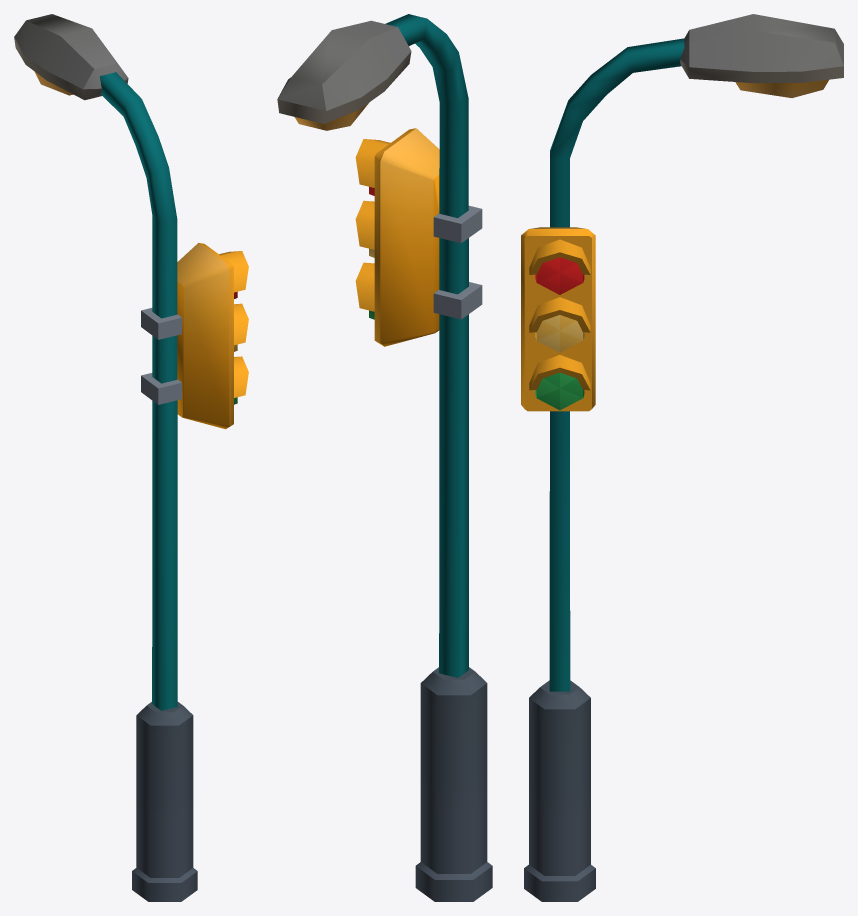
File: Lights_7_C.fbx
The picture shows the model from 3 angles, left to right: view 1: azimuth 30°, elevation 25°; view 2: azimuth 150°, elevation 25°; view 3: azimuth 270°, elevation 25°; orthographic projection. The views are drawn at different scales.
Parts seen in each view (by area): view 1: Lights_7_C; view 2: Lights_7_C; view 3: Lights_7_C.
Boxes of the visible parts, x1=… form: Lights_7_C: x1=14, y1=14, x2=248, y2=901; Lights_7_C: x1=277, y1=14, x2=492, y2=901; Lights_7_C: x1=521, y1=14, x2=843, y2=901.
Bounding box in the file's own units: 60.9 × 423 × 143.
